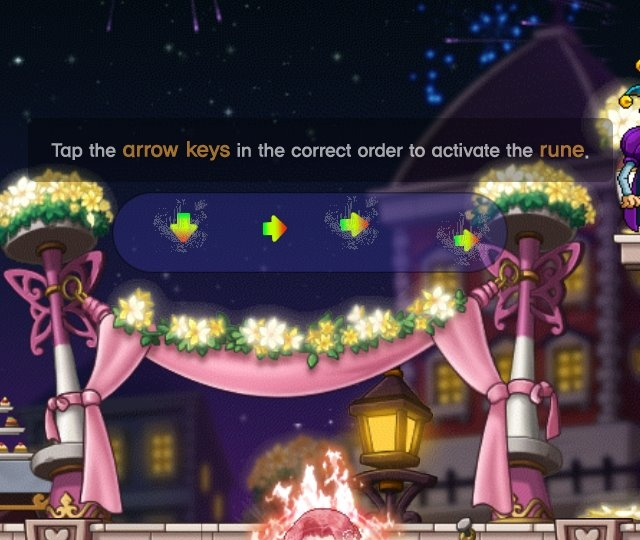down: (164, 208, 202, 248)
right: (446, 221, 486, 257), (255, 209, 291, 248), (334, 206, 371, 242)
